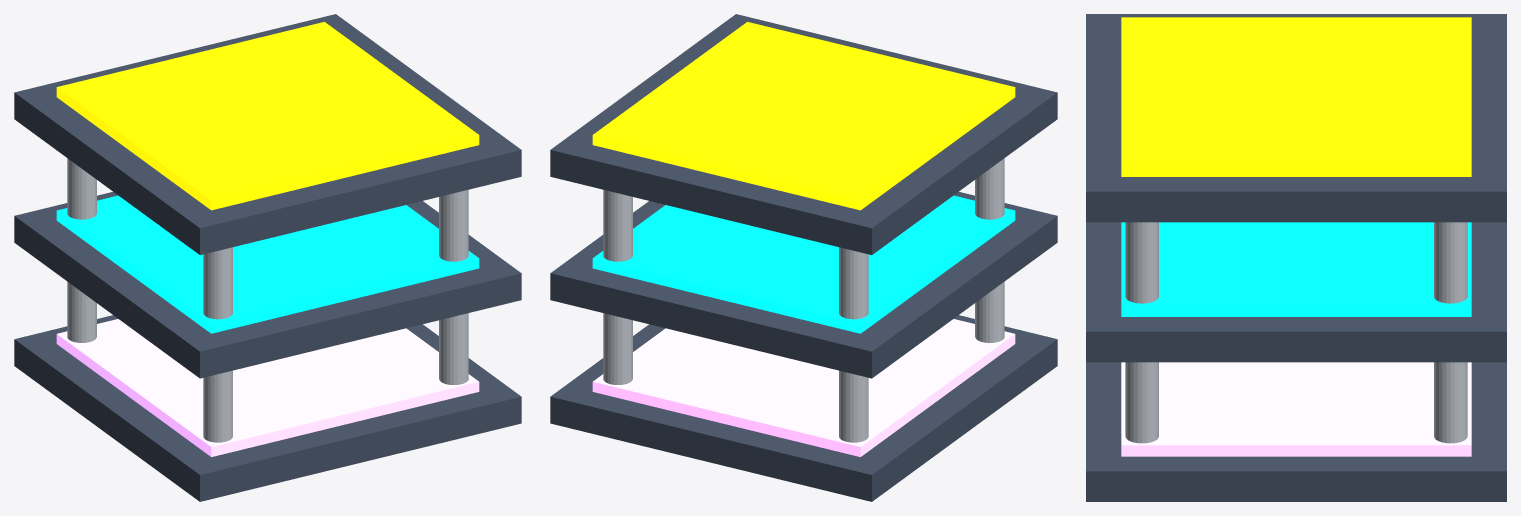
The model's file is pillar_learning.glb.
3 views of the same model, side by side, from view 1: azimuth 30°, elevation 25°; view 2: azimuth 150°, elevation 25°; view 3: azimuth 270°, elevation 25° (orthographic). The views are drawn at different scales.
Parts seen in each view (by area): view 1: ApplicationLayer_Glow, ApplicationLayer_Base, PlatformLayer_Glow, InfrastructureLayer_Glow, InfrastructureLayer_Base, PlatformLayer_Base, FiberConduit_1, FiberConduit_3, FiberConduit_0; view 2: ApplicationLayer_Glow, ApplicationLayer_Base, PlatformLayer_Glow, InfrastructureLayer_Glow, InfrastructureLayer_Base, PlatformLayer_Base, FiberConduit_0, FiberConduit_2, FiberConduit_1; view 3: ApplicationLayer_Glow, ApplicationLayer_Base, InfrastructureLayer_Glow, PlatformLayer_Glow, PlatformLayer_Base, InfrastructureLayer_Base, FiberConduit_2, FiberConduit_3.
Boxes of the visible parts, x1,y1,x2,y2 form: ApplicationLayer_Glow: (56, 22, 479, 210); ApplicationLayer_Base: (14, 14, 521, 254); PlatformLayer_Glow: (56, 195, 479, 333); InfrastructureLayer_Glow: (56, 319, 479, 456); InfrastructureLayer_Base: (14, 315, 521, 501); PlatformLayer_Base: (14, 192, 521, 378); FiberConduit_1: (203, 247, 232, 442); FiberConduit_3: (439, 189, 468, 384); FiberConduit_0: (67, 158, 96, 342); ApplicationLayer_Glow: (592, 22, 1015, 210); ApplicationLayer_Base: (550, 14, 1057, 254); PlatformLayer_Glow: (592, 195, 1015, 333); InfrastructureLayer_Glow: (592, 319, 1015, 456); InfrastructureLayer_Base: (550, 315, 1057, 501); PlatformLayer_Base: (550, 192, 1057, 378); FiberConduit_0: (839, 247, 868, 442); FiberConduit_2: (603, 189, 632, 384); FiberConduit_1: (975, 158, 1004, 342); ApplicationLayer_Glow: (1121, 17, 1471, 176); ApplicationLayer_Base: (1086, 14, 1506, 222); InfrastructureLayer_Glow: (1121, 362, 1471, 456); PlatformLayer_Glow: (1121, 222, 1471, 316); PlatformLayer_Base: (1086, 222, 1506, 362); InfrastructureLayer_Base: (1086, 362, 1506, 501); FiberConduit_2: (1434, 222, 1467, 443); FiberConduit_3: (1125, 222, 1158, 443).
Bounding box in the file's own units: 1.5 × 1.3 × 1.5.
